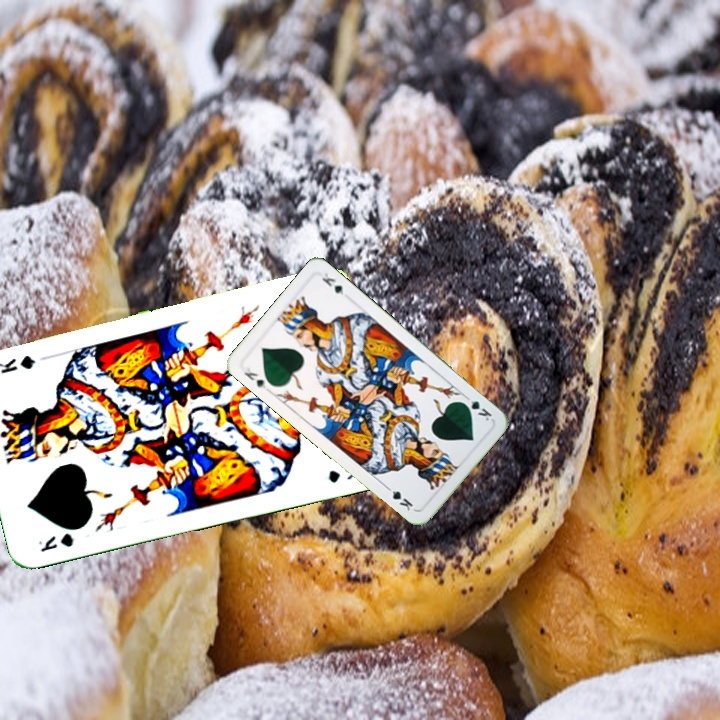GK: (457, 392, 495, 424), (34, 529, 76, 555), (240, 361, 270, 391)
